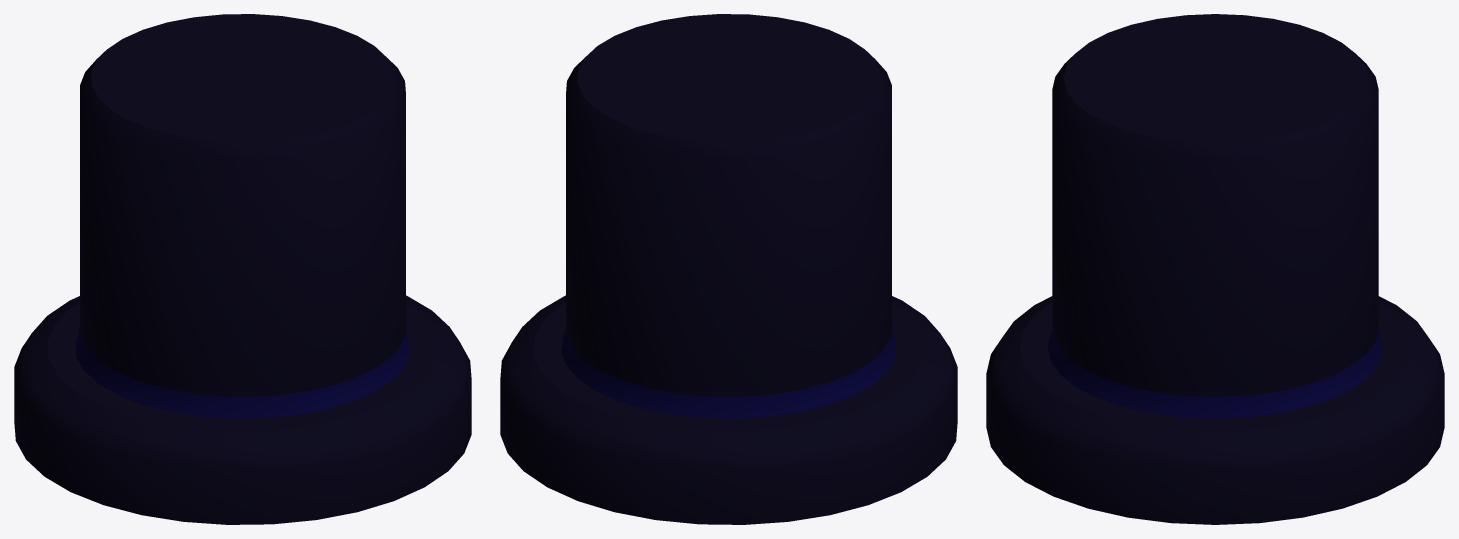
Rendered from tophat.fbx.
The picture shows the model from 3 angles, left to right: view 1: azimuth 30°, elevation 25°; view 2: azimuth 150°, elevation 25°; view 3: azimuth 270°, elevation 25°; orthographic projection.
Visible parts, largest first — view 1: Cylinder.001; view 2: Cylinder.001; view 3: Cylinder.001.
Boxes of the visible parts, <box> form: Cylinder.001: <box>14,14,471,524</box>; Cylinder.001: <box>500,14,957,524</box>; Cylinder.001: <box>986,14,1444,524</box>.
Size of the model in its own units: 69 by 58.19 by 69.
